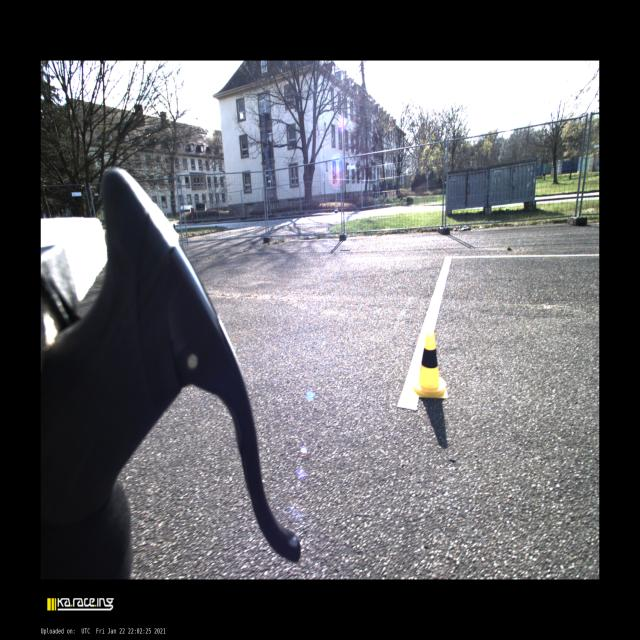yellow_cone: (413, 330, 448, 398)
